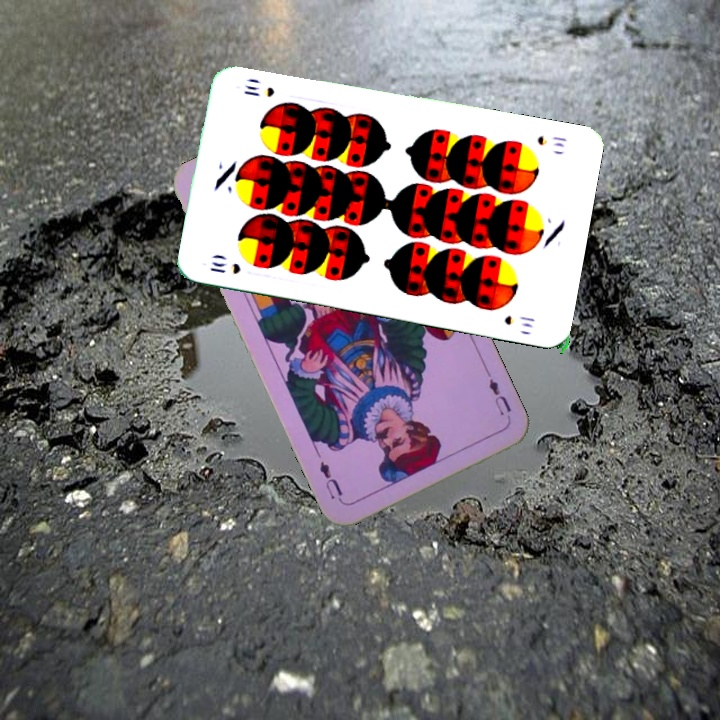EU: (483, 368, 514, 418)
S10: (206, 257, 244, 277), (533, 132, 569, 150)
